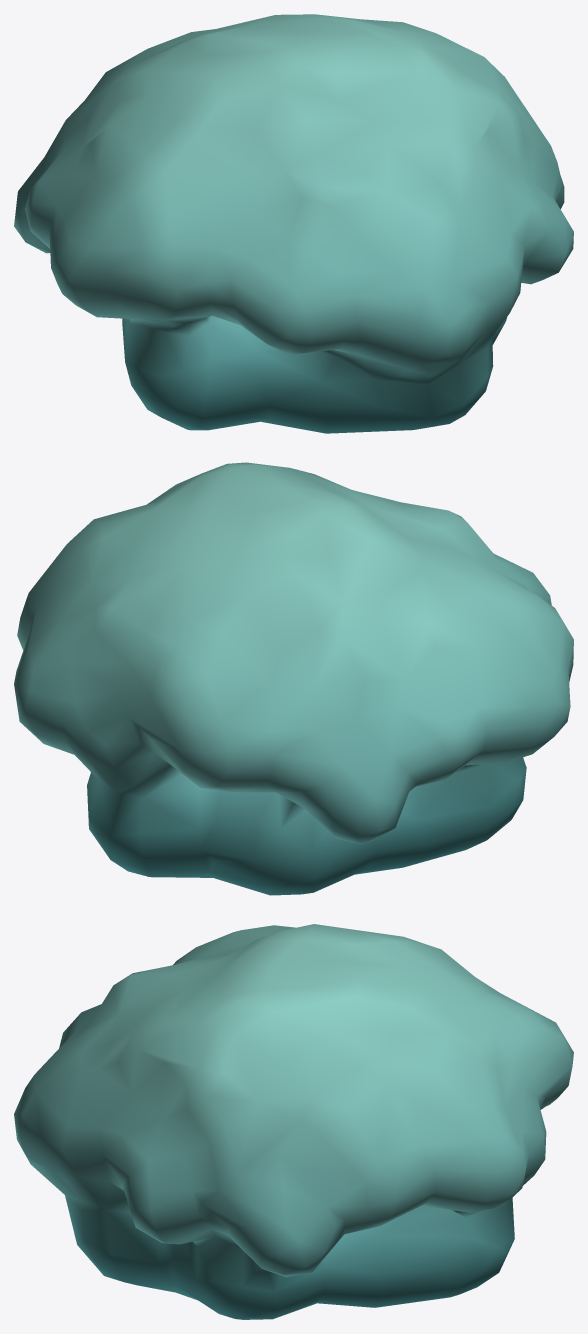
The model's file is brain_teal_low.glb.
3 renders of one model, top to bottom at view 1: azimuth 30°, elevation 25°; view 2: azimuth 150°, elevation 25°; view 3: azimuth 270°, elevation 25°, orthographic. The views are drawn at different scales.
Visible parts, largest first — view 1: world; view 2: world; view 3: world.
Part boxes in pixels (x1=…): world: x1=14, y1=14, x2=573, y2=433; world: x1=14, y1=462, x2=573, y2=895; world: x1=14, y1=924, x2=573, y2=1319.
Bounding box in the file's own units: 0.978 × 0.6359 × 0.9748.
